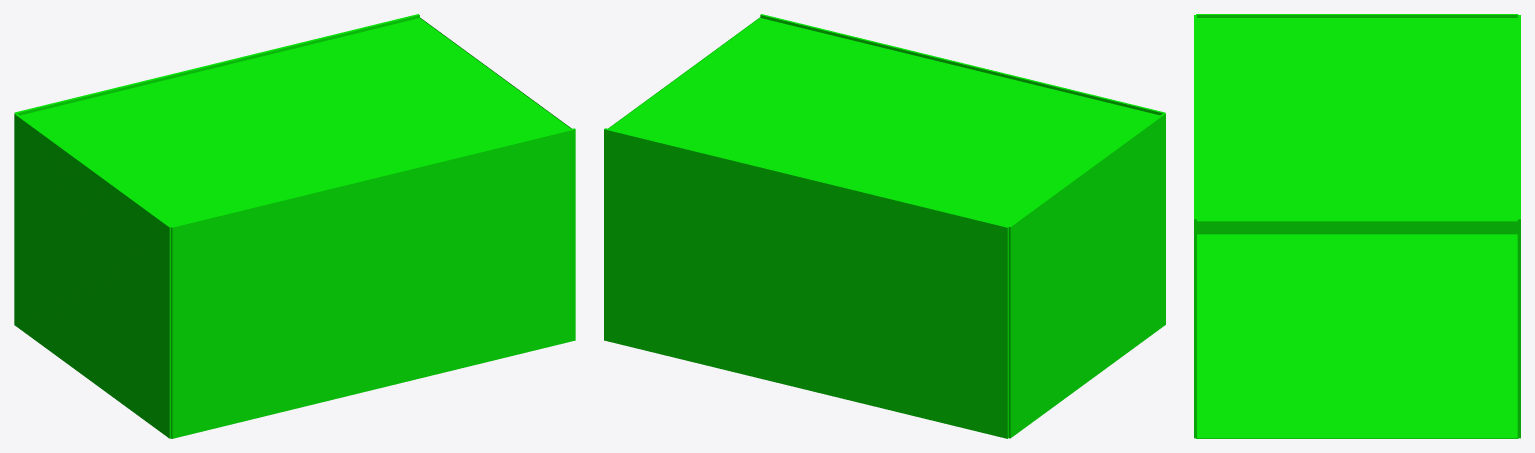
The picture shows the model from 3 angles, left to right: view 1: azimuth 30°, elevation 25°; view 2: azimuth 150°, elevation 25°; view 3: azimuth 270°, elevation 25°; orthographic projection. The views are drawn at different scales.
Parts seen in each view (by area): view 1: Uv_004; view 2: Uv_004; view 3: Uv_004.
Part boxes in pixels (x1,y1,x2,y2): Uv_004: (14, 14, 575, 438); Uv_004: (604, 14, 1165, 438); Uv_004: (1194, 14, 1520, 438).
Size of the model in its own units: 602 by 301 by 406.
